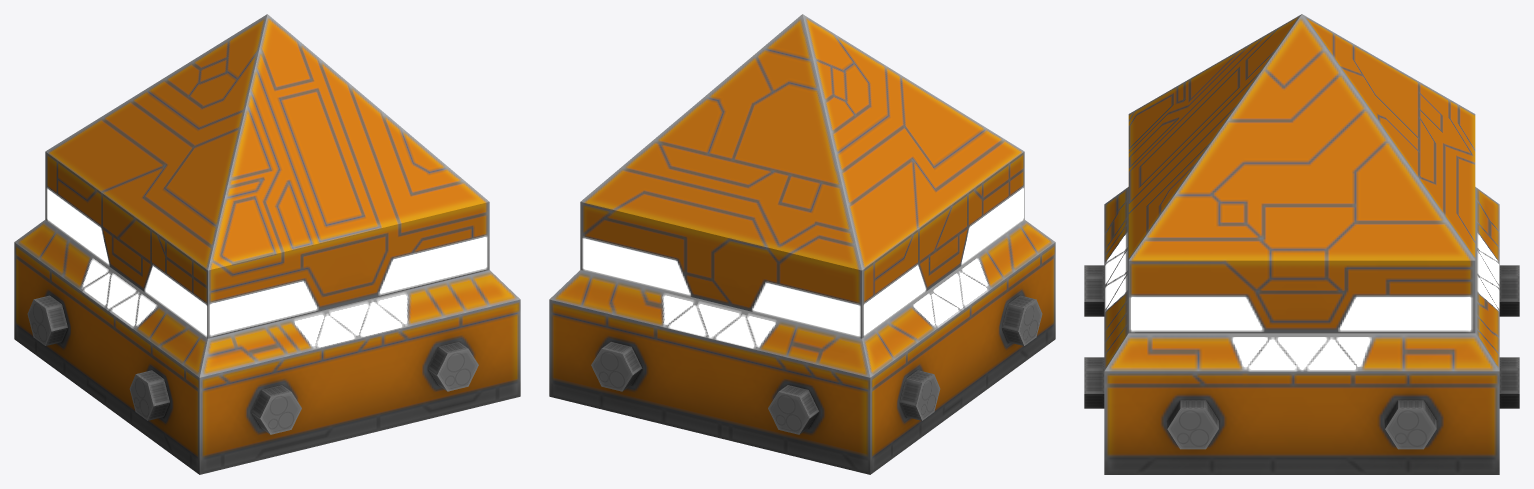
File: Generic_01.dae
3 views of the same model, side by side, from view 1: azimuth 30°, elevation 25°; view 2: azimuth 150°, elevation 25°; view 3: azimuth 270°, elevation 25° (orthographic). The views are drawn at different scales.
Visible parts, largest first — view 1: Generic_01; view 2: Generic_01; view 3: Generic_01.
Boxes of the visible parts, x1=… form: Generic_01: x1=14, y1=14, x2=520, y2=474; Generic_01: x1=549, y1=14, x2=1055, y2=474; Generic_01: x1=1084, y1=14, x2=1519, y2=474.
Bounding box in the file's own units: 2 × 1.91 × 2.
